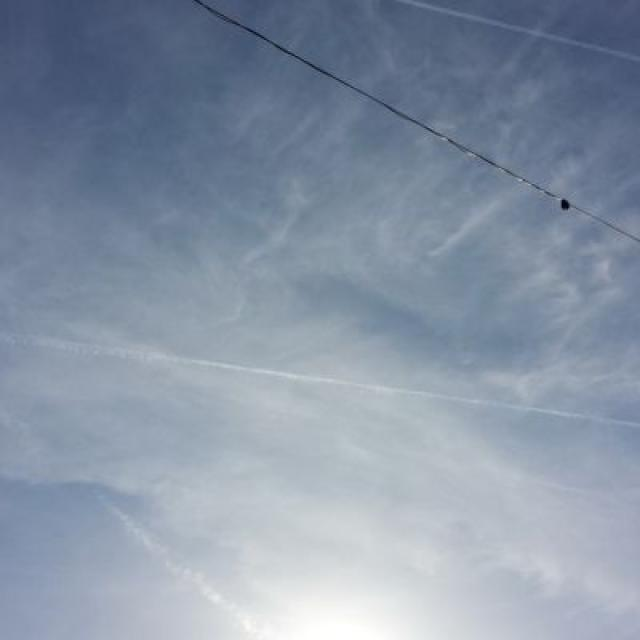Ct: (1, 244, 640, 640)
